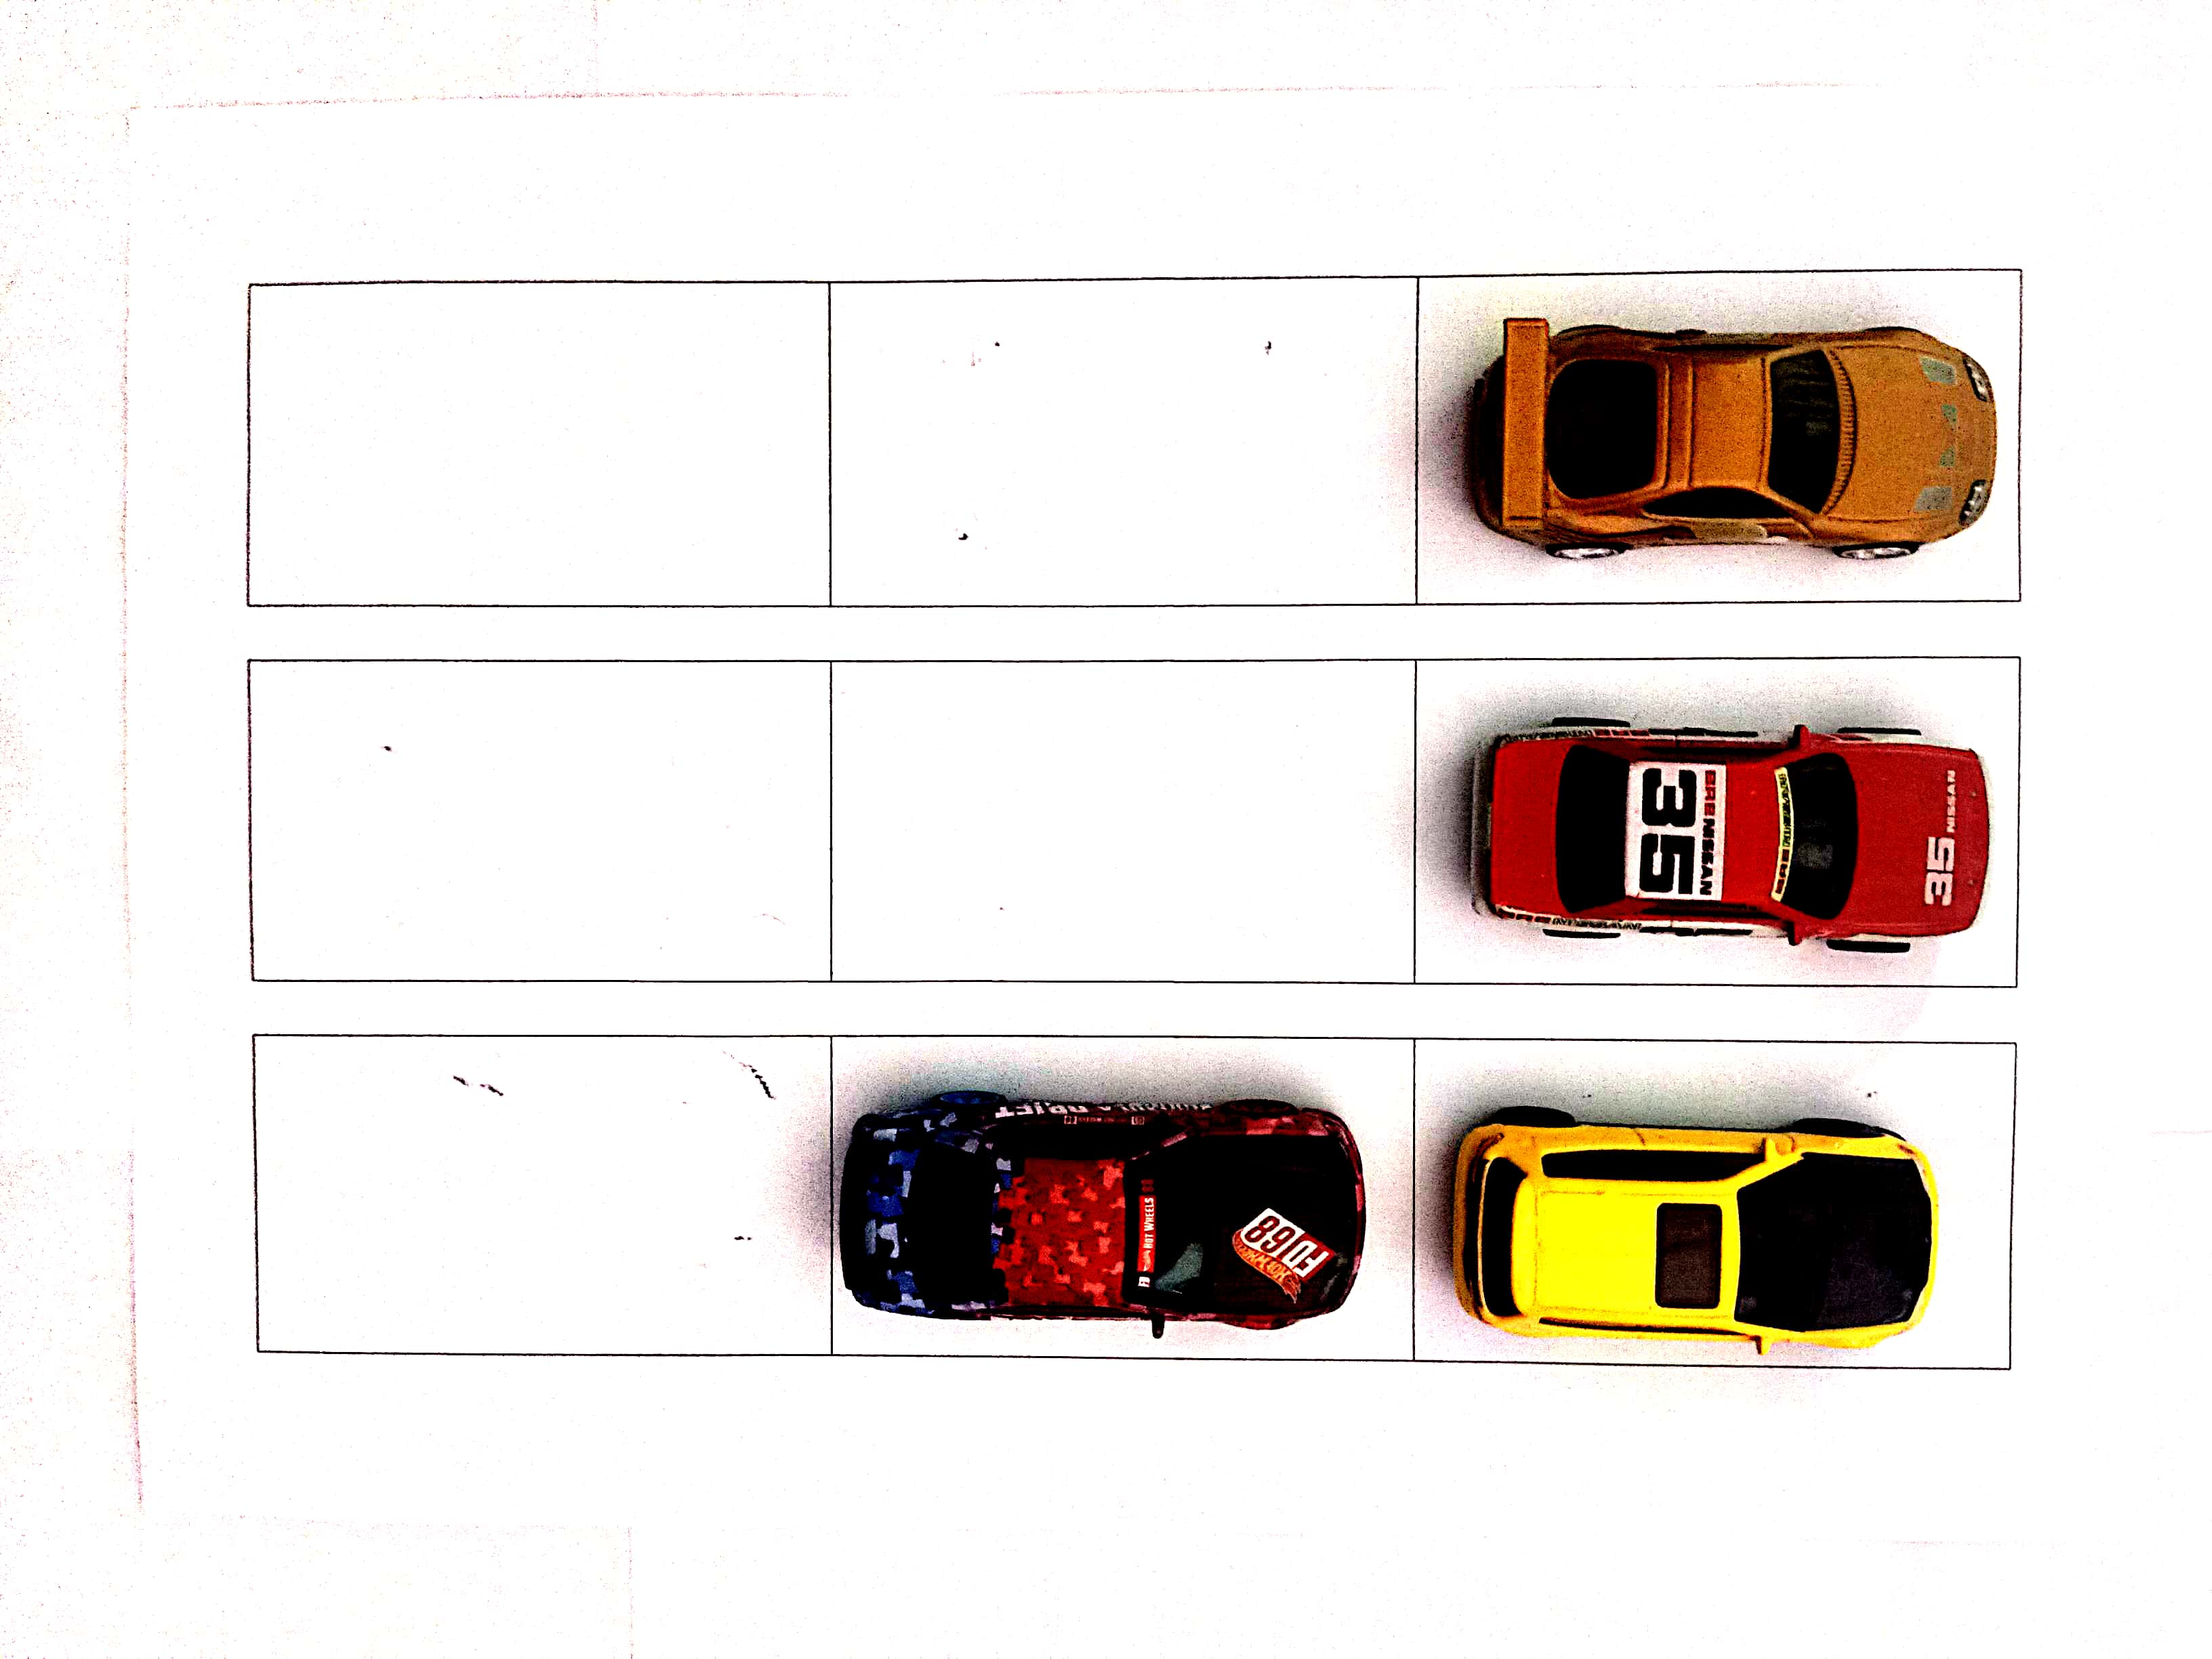Busy: (1420, 272, 2024, 603), (1414, 1037, 2015, 1359), (827, 1032, 1418, 1359), (1418, 669, 2020, 983)
Free: (826, 660, 1418, 983), (247, 652, 826, 978), (831, 281, 1418, 601), (247, 286, 831, 601), (256, 1032, 827, 1351)
